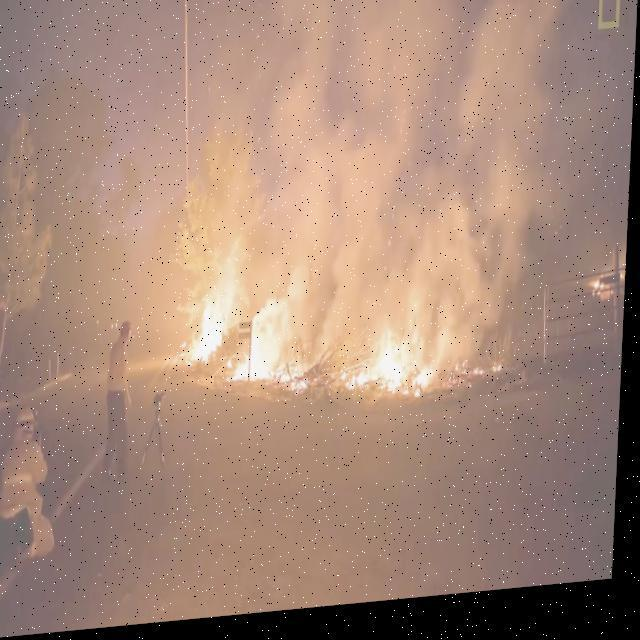Fire: (345, 318, 437, 414), (241, 288, 314, 406), (192, 274, 238, 371), (458, 367, 508, 388), (596, 289, 608, 305)
